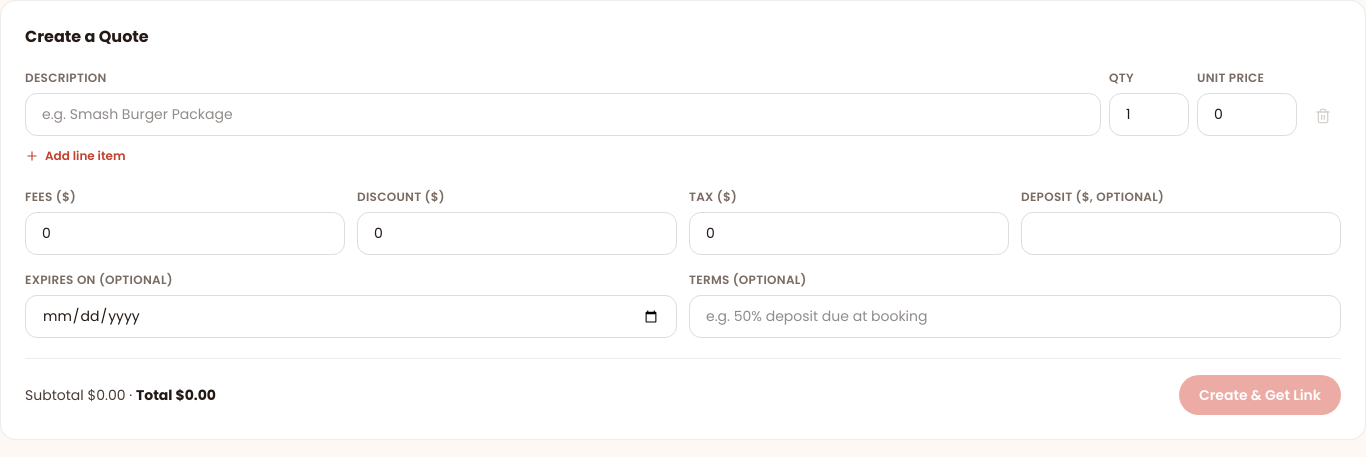
it: QuoteBuilder › disables submit until at least one line item has a description
Expected: the button "Create & Get Link" is disabled, [1179,375,1341,415]
Type "Burgers" into the field named "Description" at (563, 114), box [25,93,1101,136]
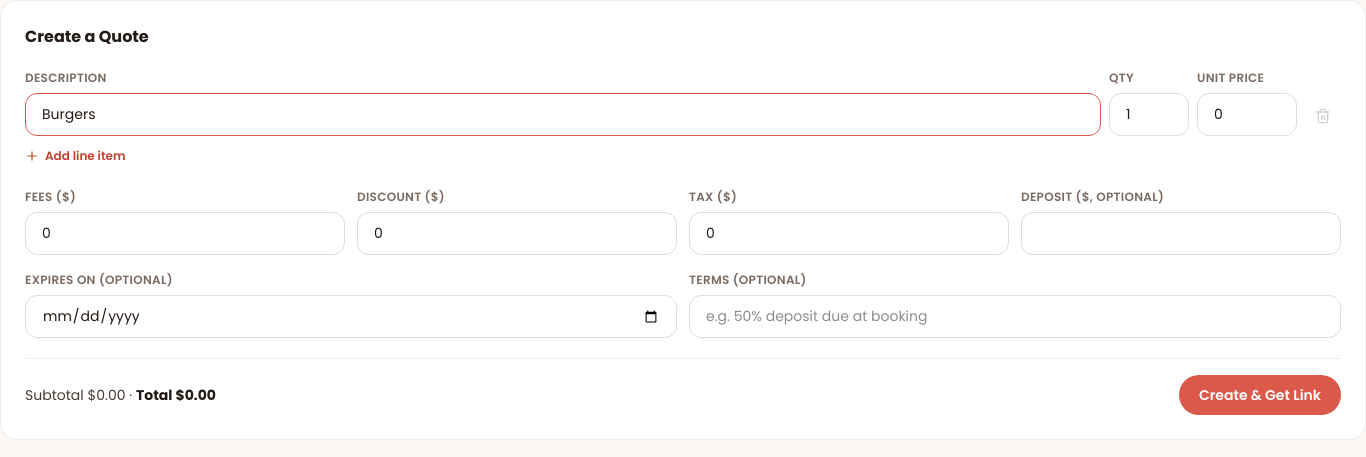
Expected: the button "Create & Get Link" is enabled, [1179,375,1341,415]
